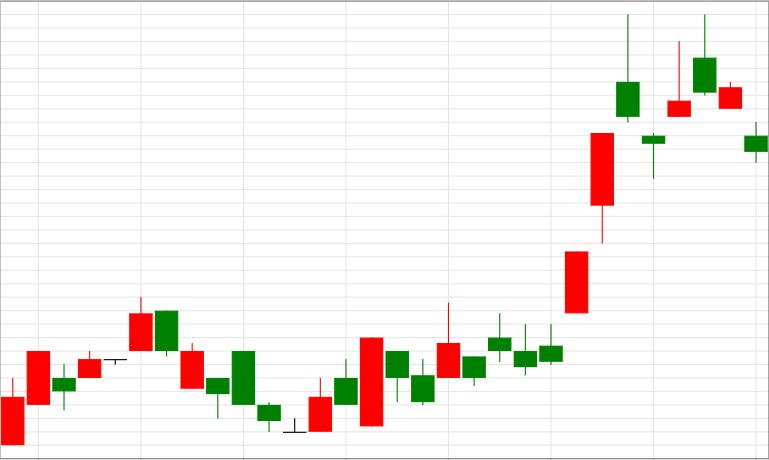shooting_star_fall: (412, 16, 639, 406)
